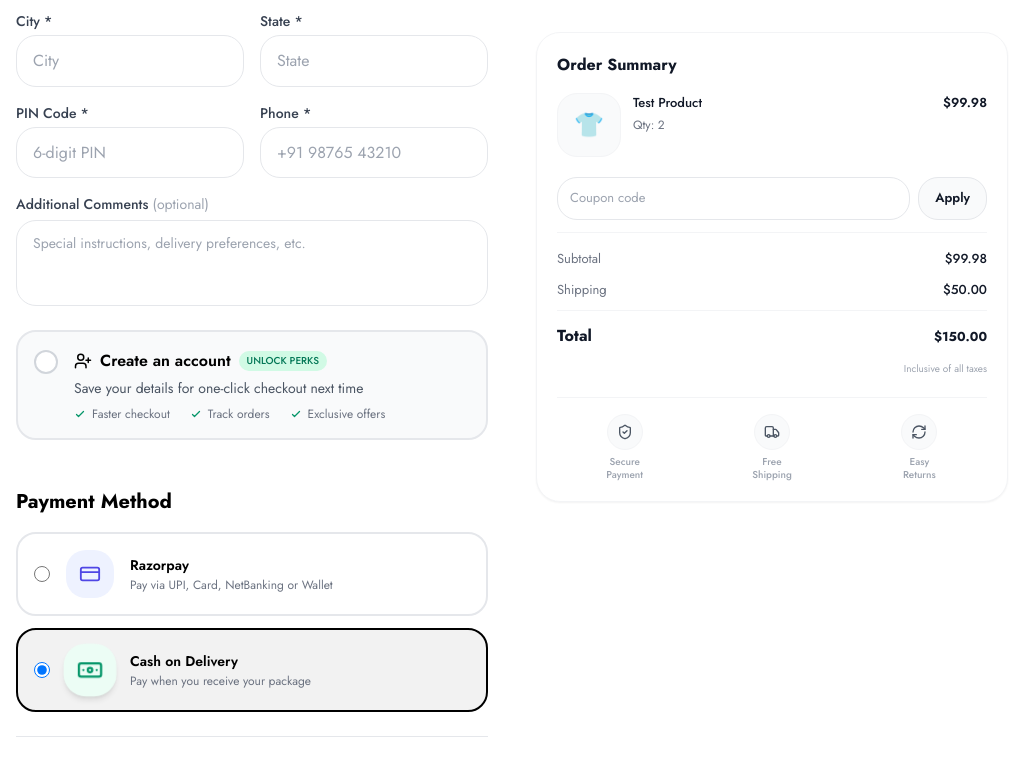
CheckoutPage › should show password field when create account is checked
(page scrolled)
Click the checkbox at (210, 386), box left=34, top=349, right=385, bottom=422
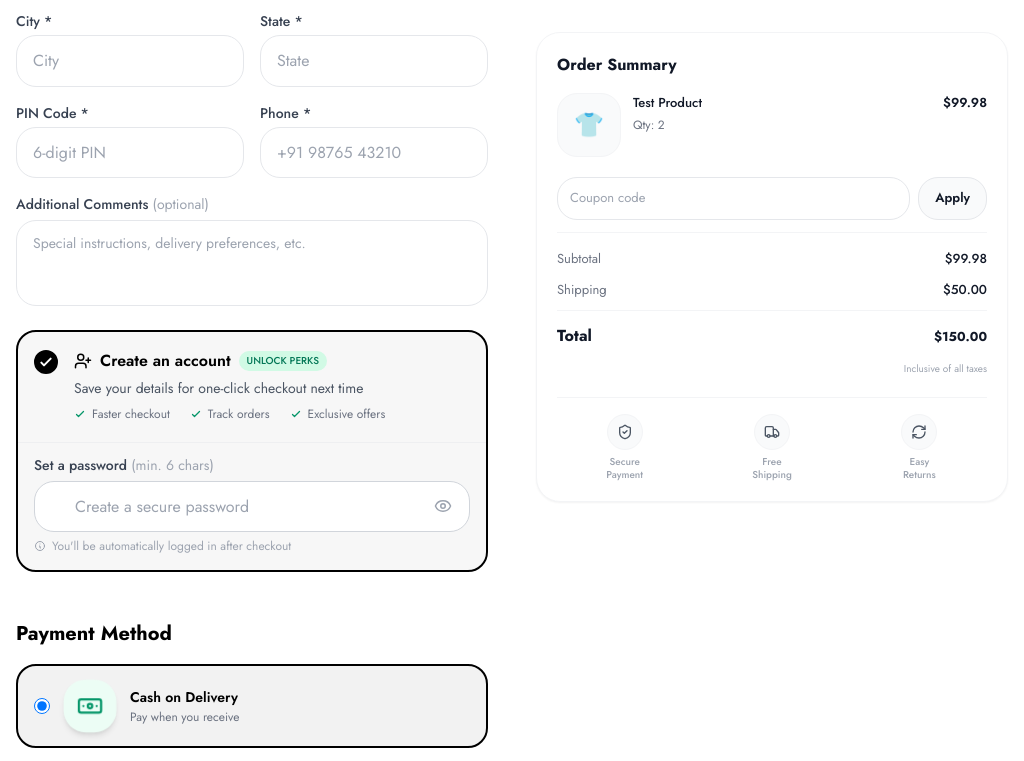
Check: the password field with placeholder "Create a secure password" is shown, box left=34, top=480, right=470, bottom=532
